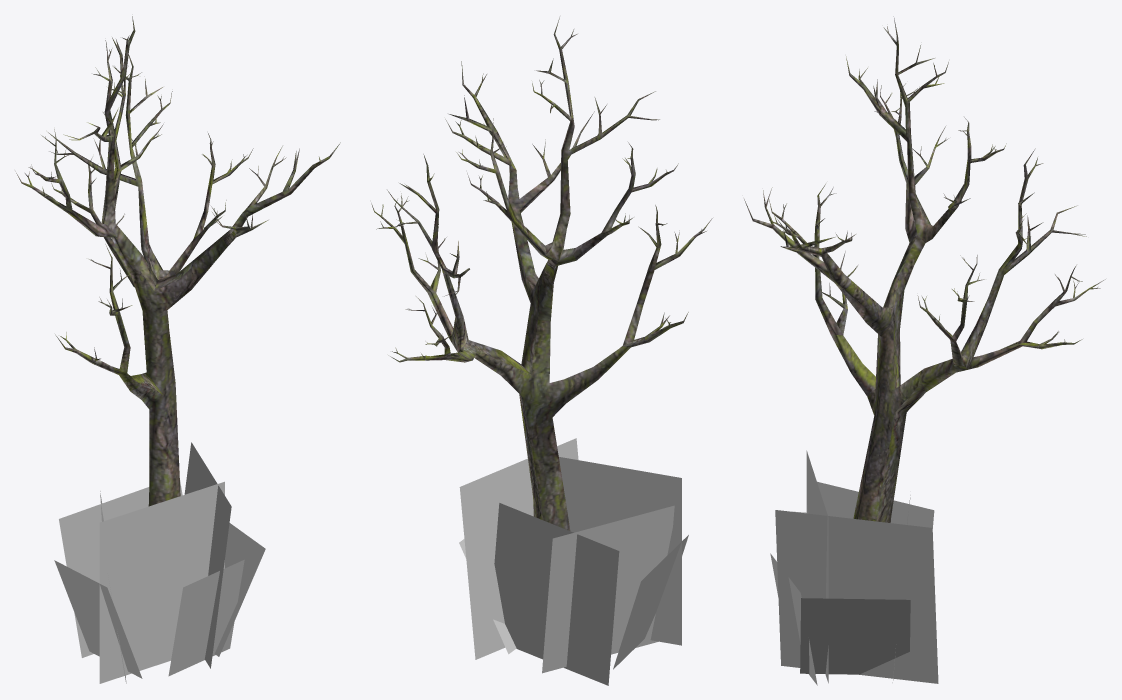
The model's file is Model_Tree_14.fbx.
3 renders of one model, left to right at view 1: azimuth 30°, elevation 25°; view 2: azimuth 150°, elevation 25°; view 3: azimuth 270°, elevation 25°, orthographic. The views are drawn at different scales.
Visible parts, largest first — view 1: Tree_15; view 2: Tree_15; view 3: Tree_15.
Part boxes in pixels (box(x1,y1,x2,y2)): Tree_15: box(15, 16, 340, 683); Tree_15: box(371, 17, 712, 685); Tree_15: box(744, 16, 1105, 685).
Size of the model in its own units: 190 by 442 by 224.
